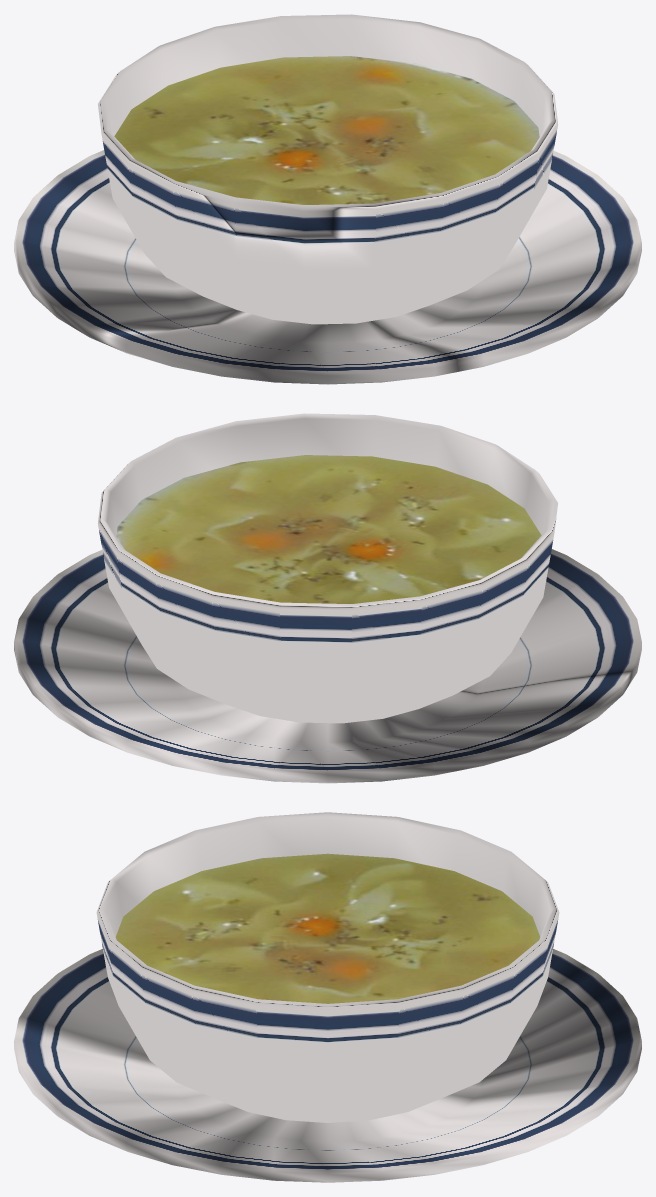
The model's file is soup.fbx.
The picture shows the model from 3 angles, top to bottom: view 1: azimuth 30°, elevation 25°; view 2: azimuth 150°, elevation 25°; view 3: azimuth 270°, elevation 25°; orthographic projection.
Parts seen in each view (by area): view 1: object2; view 2: object2; view 3: object2.
Part boxes in pixels (x1,y1,x2,y2): object2: (14,14,641,384); object2: (14,413,641,783); object2: (14,812,641,1182).
Bounding box in the file's own units: 8.76 × 2.96 × 8.76.
